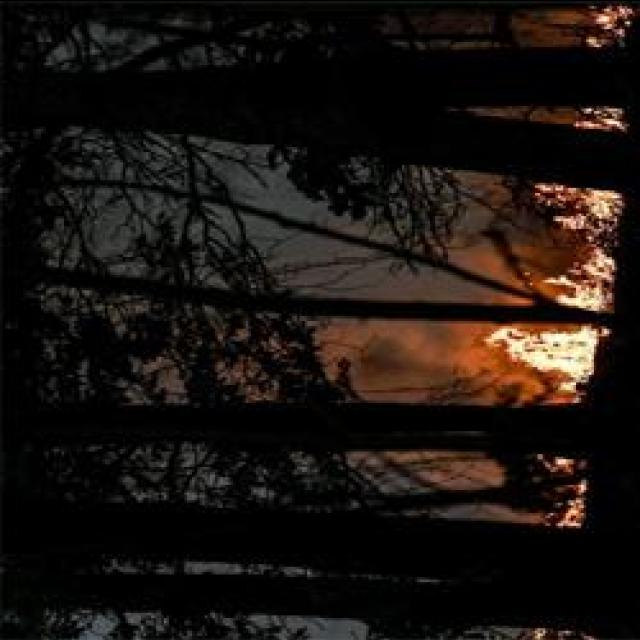fire: (473, 323, 599, 399), (544, 182, 622, 216), (556, 270, 612, 314)
smoke: (356, 337, 458, 383)
